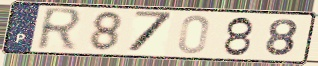0: (176, 13, 211, 55)
7: (128, 10, 175, 56)
8: (87, 10, 125, 52), (265, 18, 300, 58), (223, 15, 254, 57)
R: (34, 6, 86, 53)
